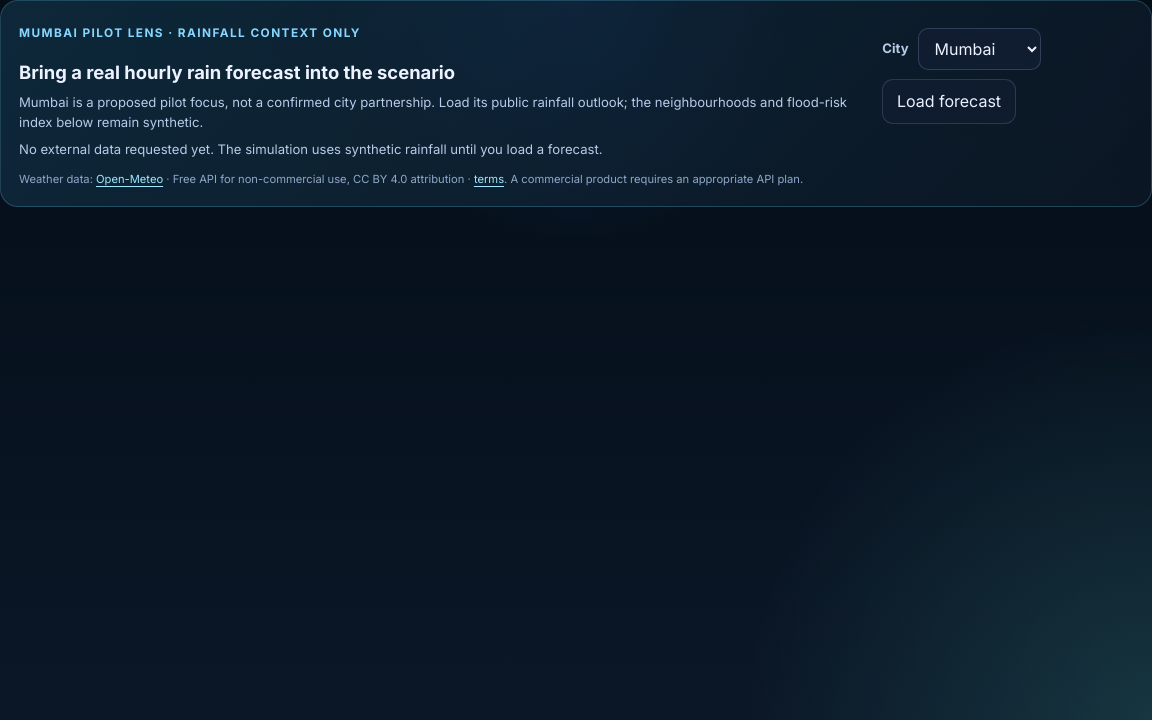
Test: WeatherContext › clears stale city data and removes an applied profile when the city changes
Click the button "Load forecast" at (949, 101), box [882,79,1016,124]
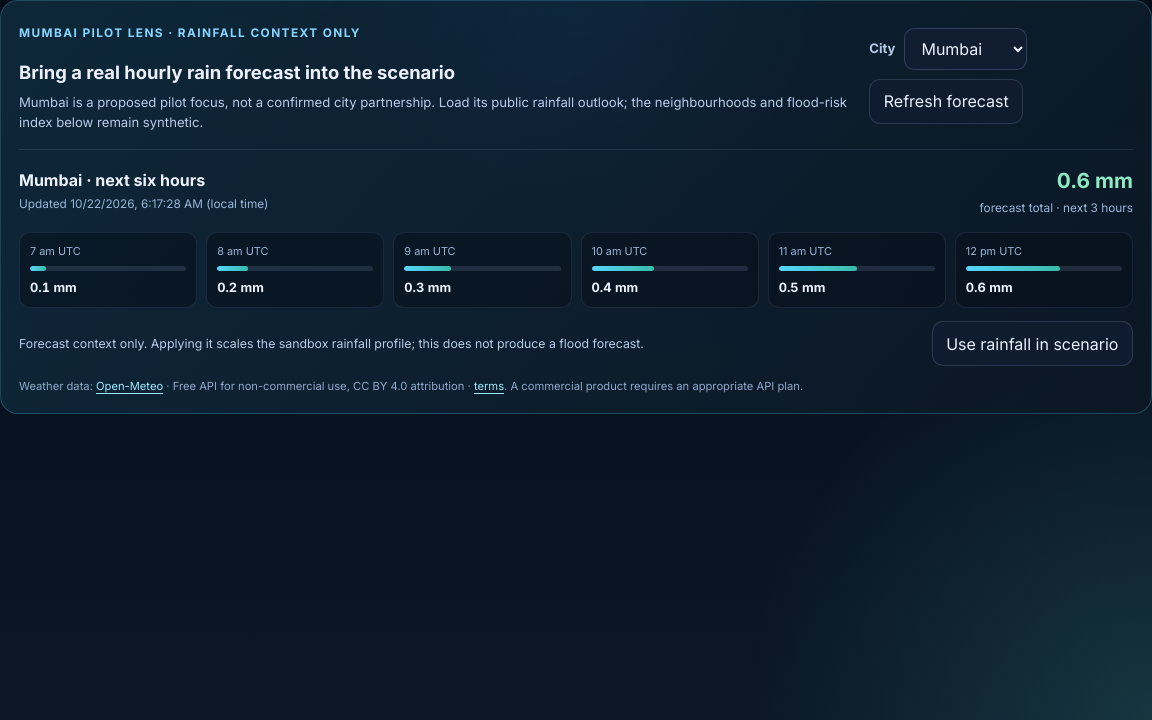
Check: the button "Use rainfall in scenario" is shown, box [932,321,1133,366]
Select "Delhi" in the dropdown labelled "City" at (966, 49), box [904,28,1027,70]
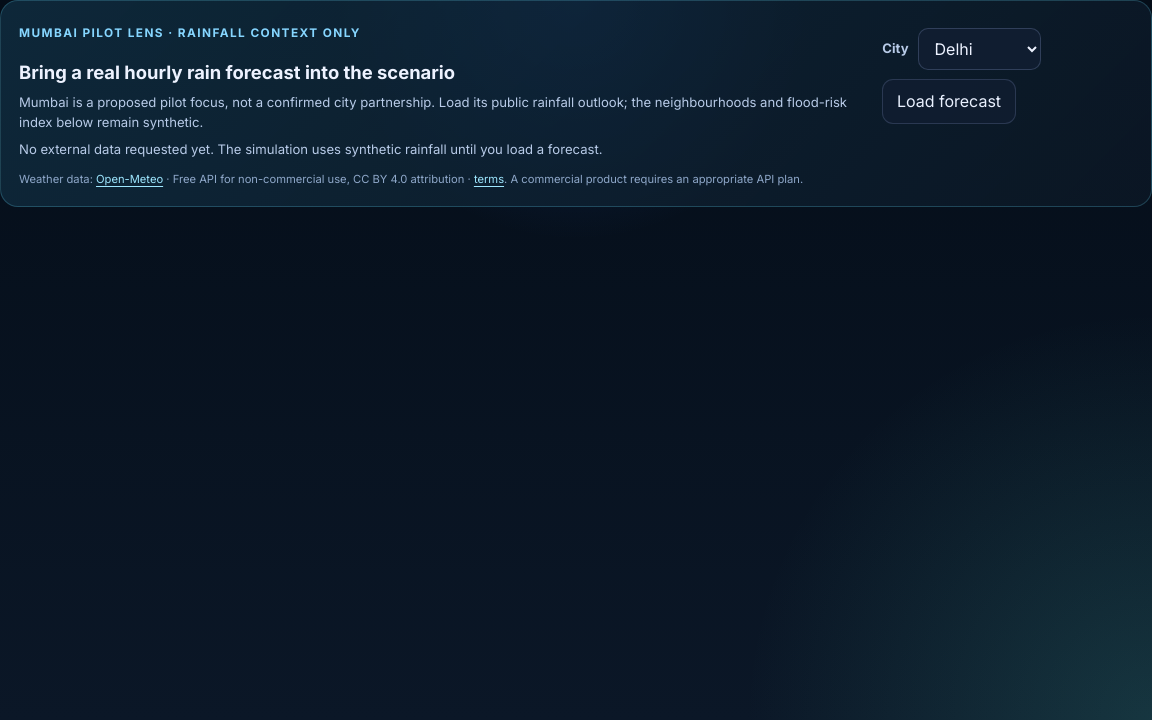
Check: the text "No external data requested yet" is shown, box [19,141,602,157]
